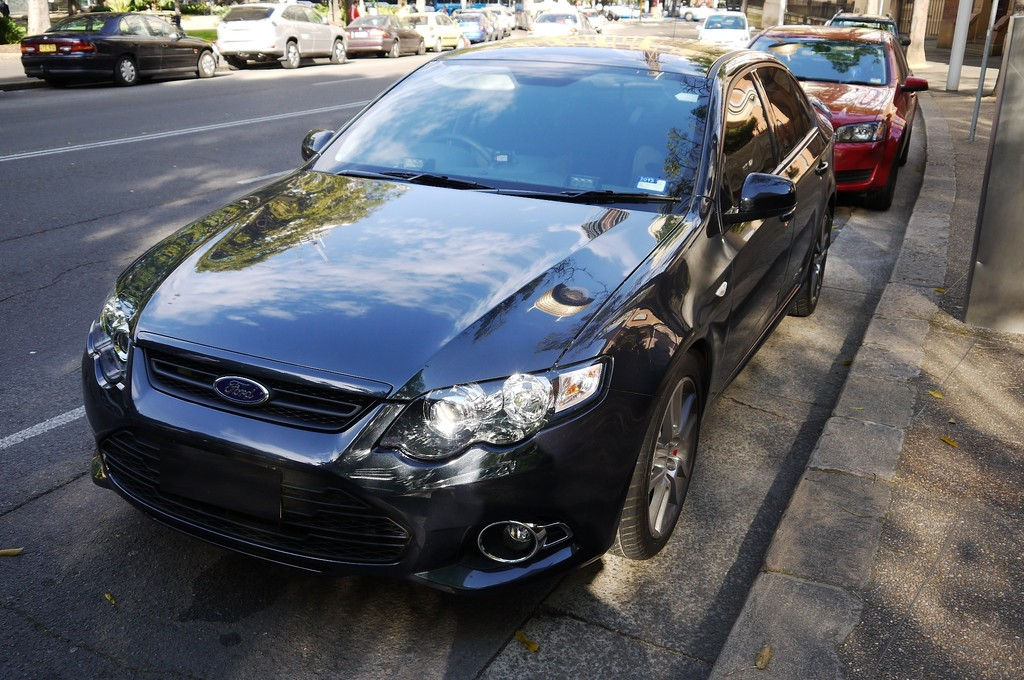Car: (79, 47, 839, 605), (18, 2, 604, 87), (751, 22, 924, 204), (20, 12, 215, 81), (224, 3, 345, 61), (349, 12, 424, 55), (412, 12, 467, 53), (823, 10, 900, 38), (700, 7, 752, 47), (460, 12, 499, 42), (678, 3, 719, 26), (605, 3, 640, 22)
